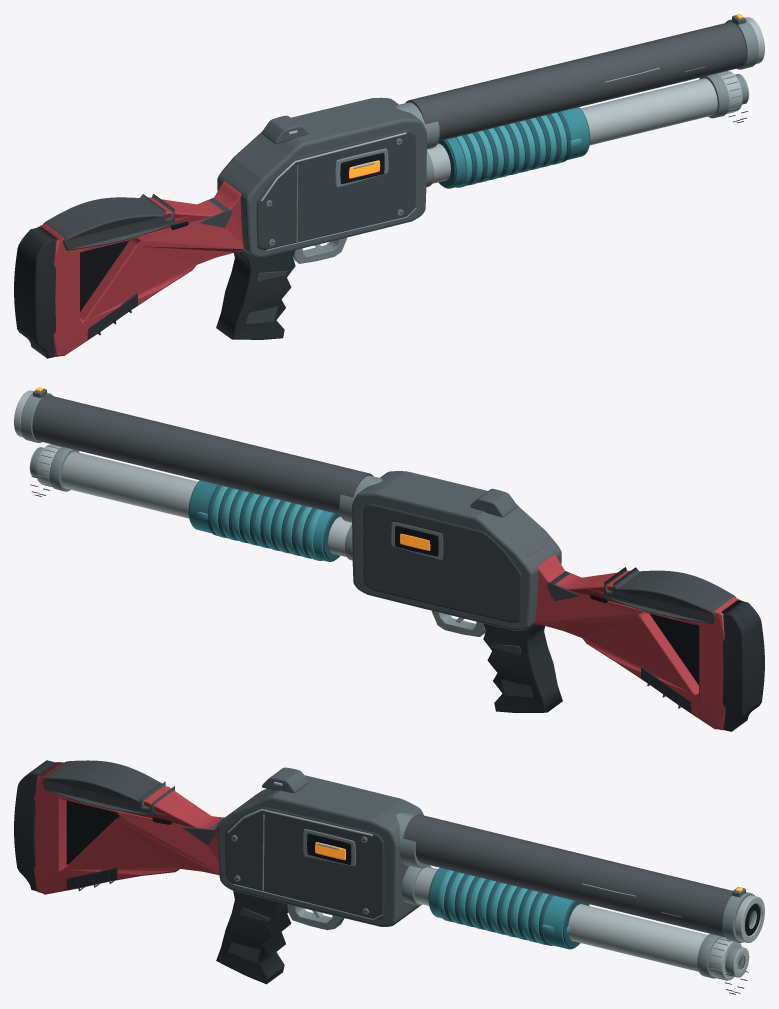
File: shotgun.glb
3 renders of one model, top to bottom at view 1: azimuth 30°, elevation 25°; view 2: azimuth 150°, elevation 25°; view 3: azimuth 330°, elevation 25°, orthographic.
Visible parts, largest first — view 1: Body, Pump; view 2: Body, Pump; view 3: Body, Pump.
Boxes of the visible parts, left/top/right/bottom form: Body: left=14, top=14, right=764, bottom=358; Pump: left=438, top=107, right=590, bottom=188; Body: left=14, top=387, right=764, bottom=731; Pump: left=188, top=480, right=340, bottom=561; Body: left=14, top=760, right=764, bottom=994; Pump: left=428, top=868, right=589, bottom=949.
Bounding box in the file's own units: 2.1 × 0.5701 × 0.1728.
